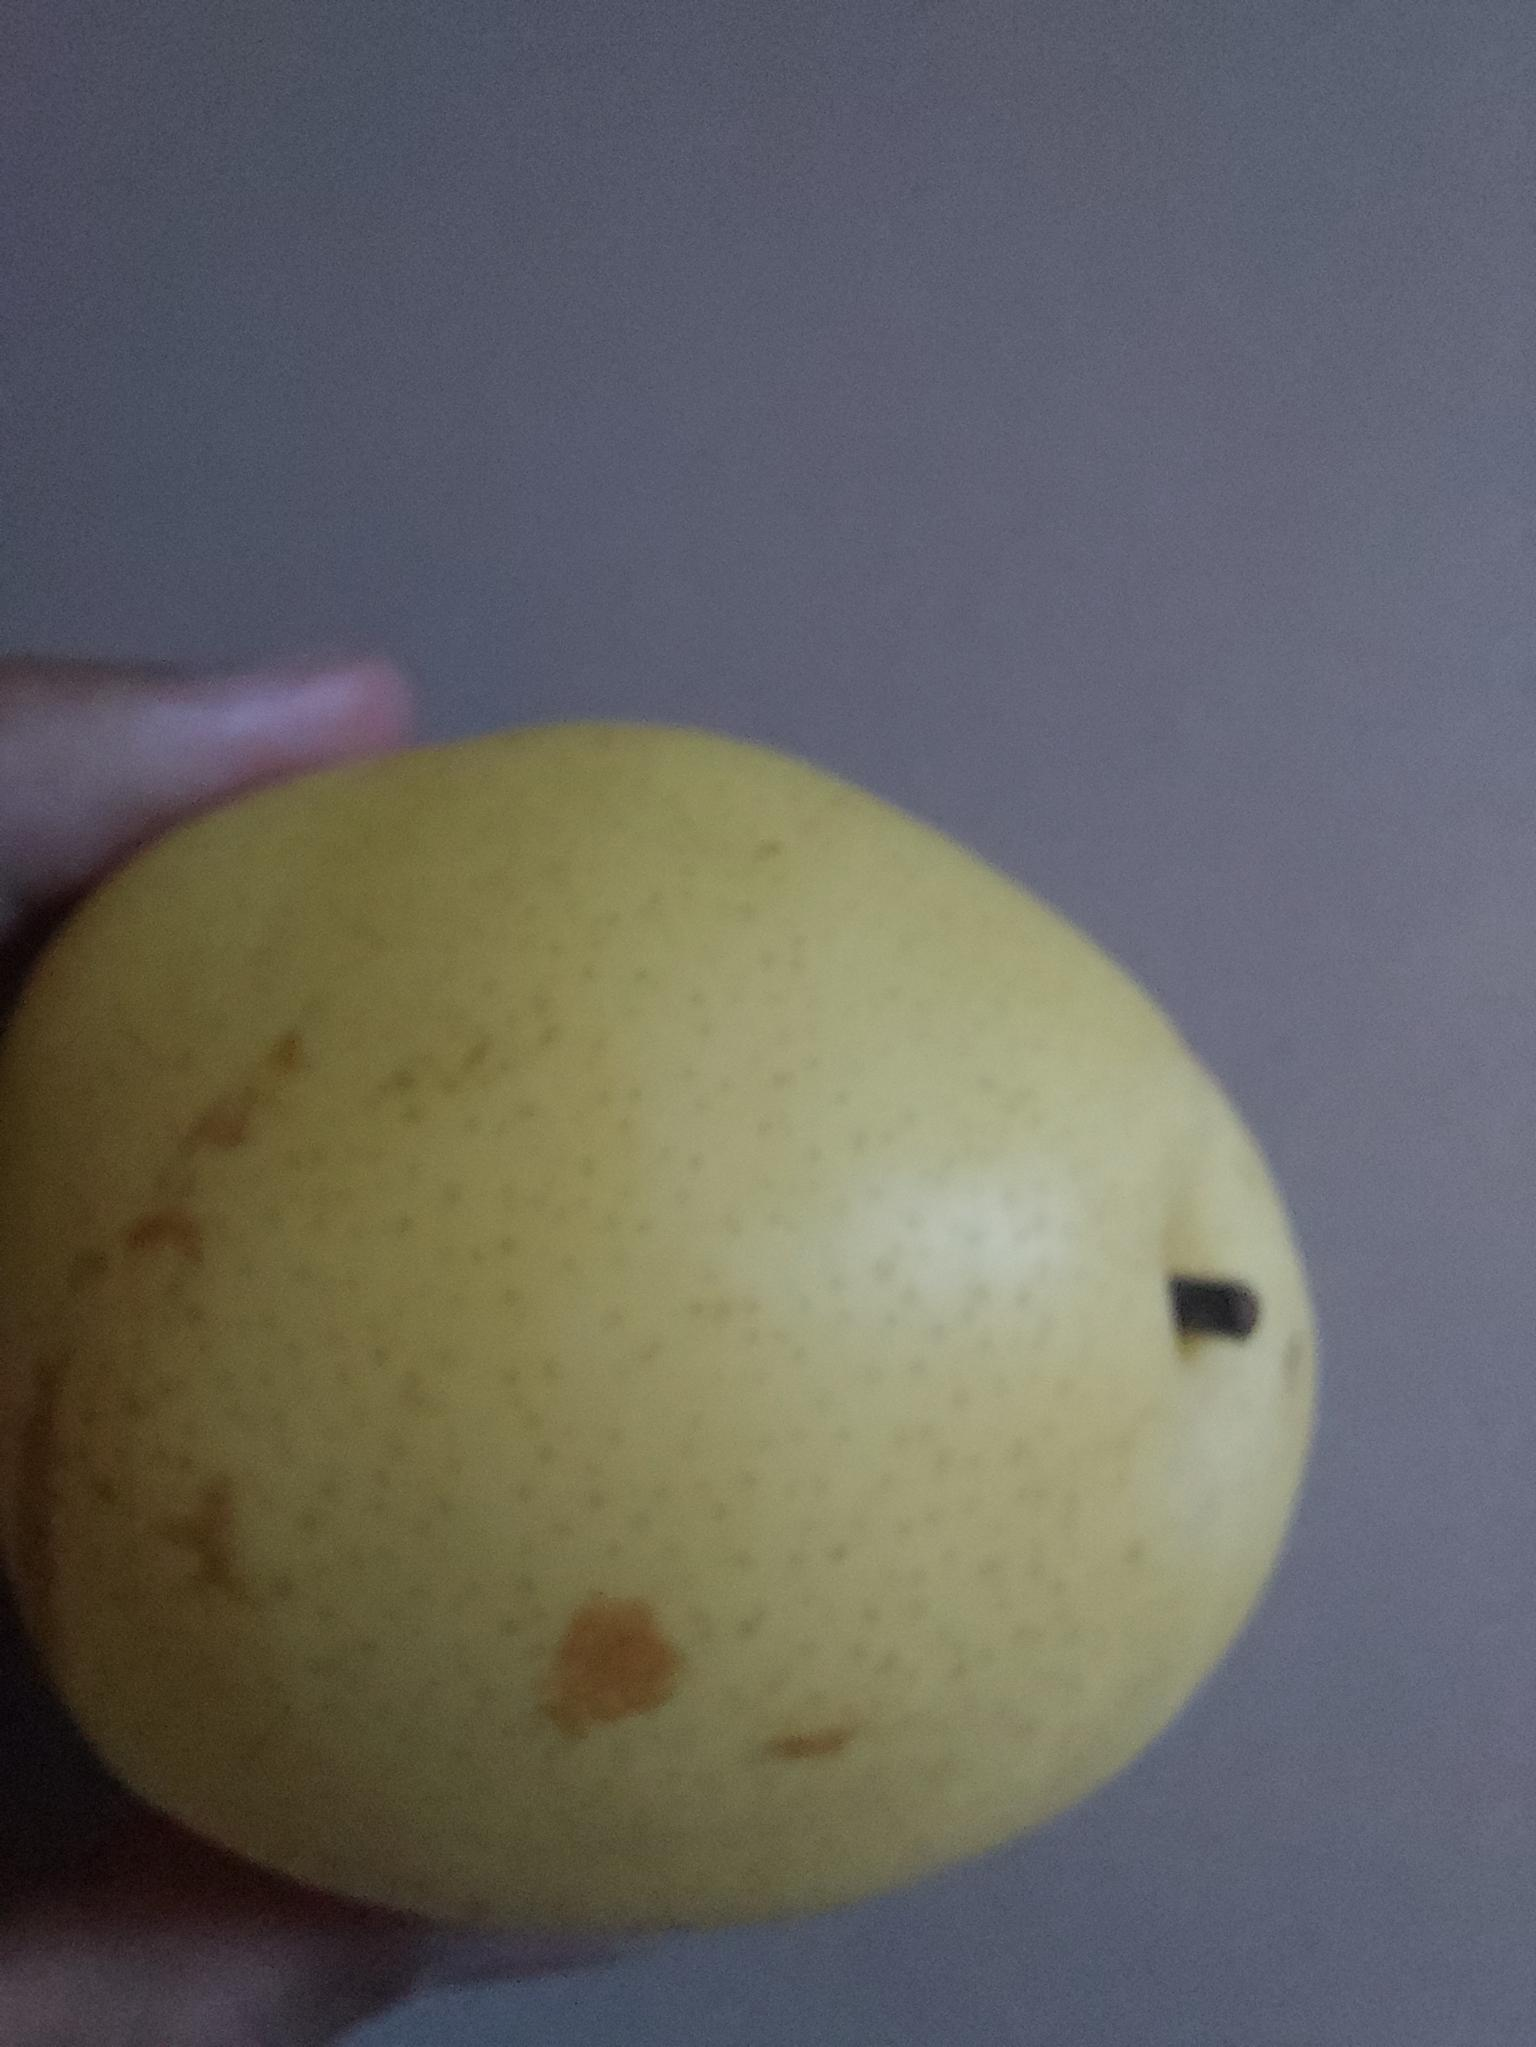Good Pear: (11, 724, 1354, 1973)
